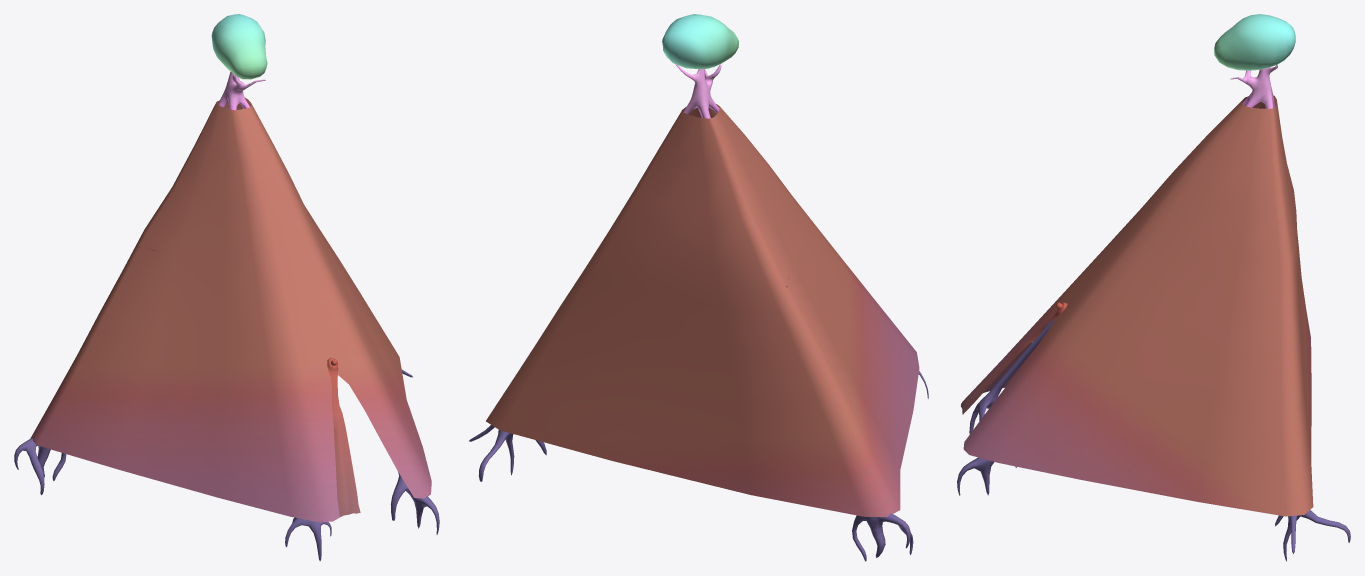
Rendered from Tent.fbx.
The picture shows the model from 3 angles, left to right: view 1: azimuth 30°, elevation 25°; view 2: azimuth 150°, elevation 25°; view 3: azimuth 270°, elevation 25°; orthographic projection. The views are drawn at different scales.
Visible parts, largest first — view 1: Tent, Tent_Tree, Tent_Tree_Leaf, Tent_Door; view 2: Tent, Tent_Tree_Leaf, Tent_Tree; view 3: Tent, Tent_Tree_Leaf, Tent_Tree, Tent_Door.
Boxes of the visible parts, x1,y1,x2,y2 form: Tent: (30, 97, 431, 522); Tent_Tree: (14, 71, 439, 561); Tent_Tree_Leaf: (211, 14, 267, 79); Tent_Door: (327, 357, 360, 516); Tent: (486, 104, 919, 516); Tent_Tree_Leaf: (662, 14, 738, 69); Tent_Tree: (469, 64, 928, 561); Tent: (962, 95, 1313, 516); Tent_Tree_Leaf: (1214, 14, 1295, 70); Tent_Tree: (957, 65, 1350, 561); Tent_Door: (961, 302, 1067, 414).
Size of the model in its own units: 811 by 857 by 657.
